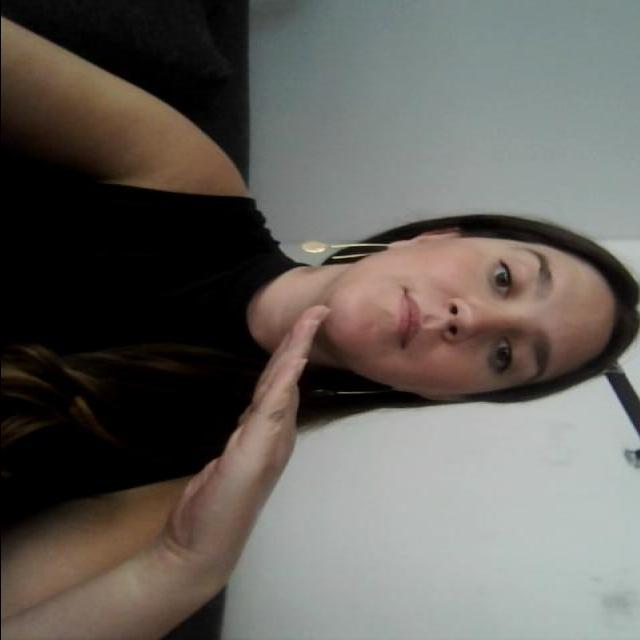Paper: (156, 297, 326, 570)
